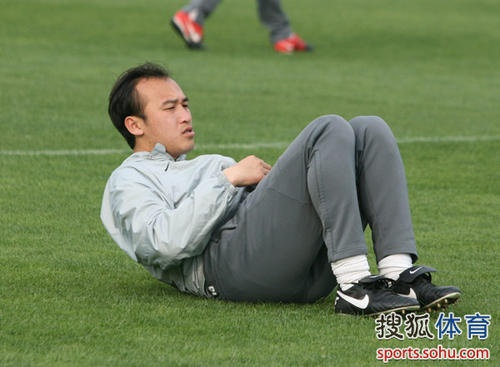falling: (94, 49, 466, 322)
